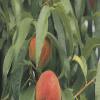Peach leaf: (45, 30, 71, 88), (11, 16, 34, 75), (52, 3, 75, 55), (34, 5, 52, 70), (14, 39, 29, 99), (81, 35, 99, 63)
